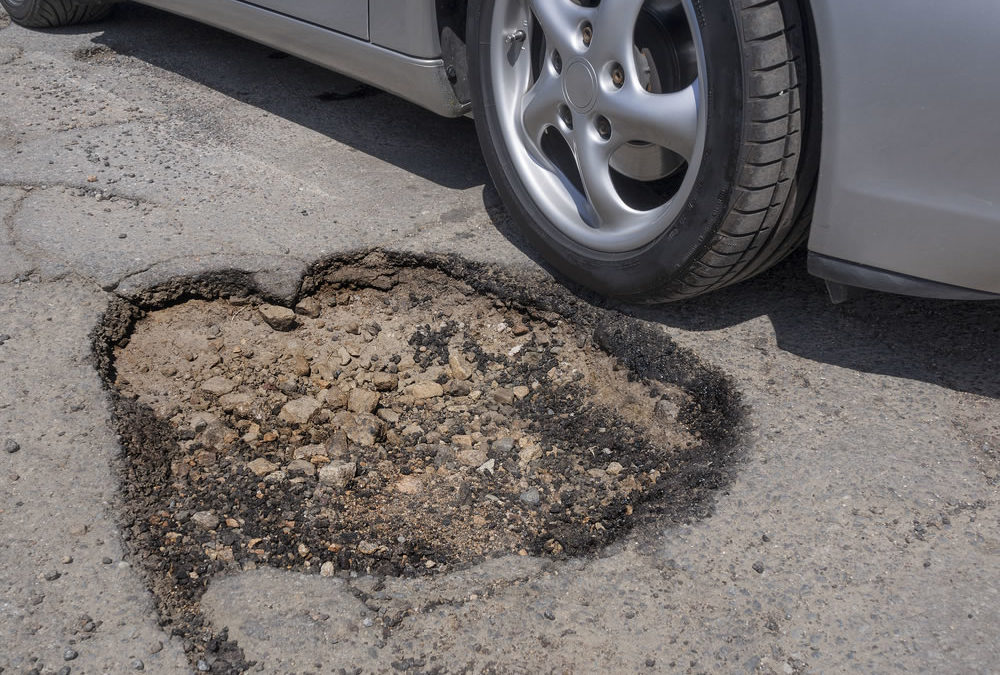pothole: (90, 223, 711, 594)
